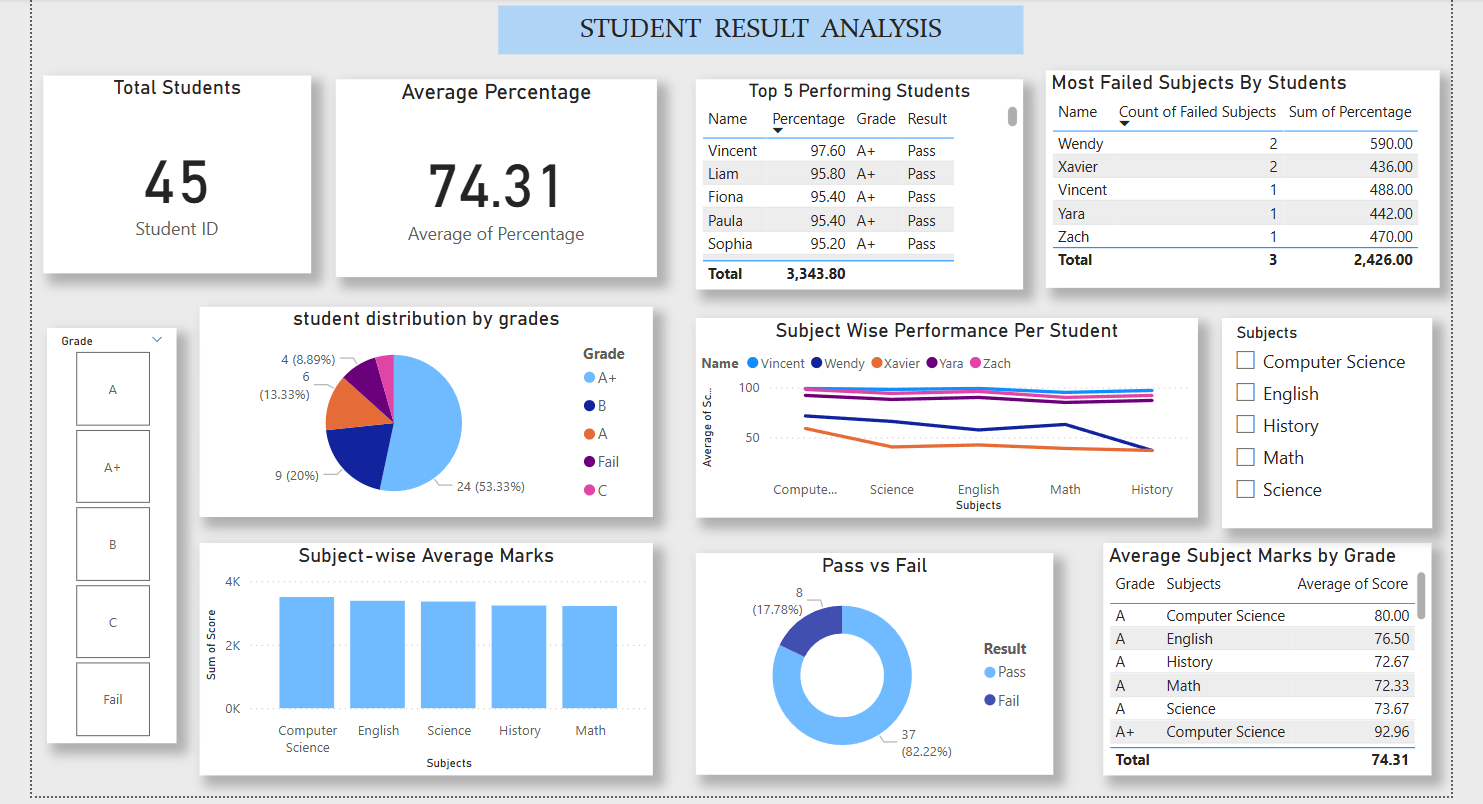

The page's visual inventory and layout, read from the dashboard file:
{"tool":"powerbi","page":{"name":"Page 1","canvas":[1280,720],"ordinal":0},"visuals":[{"type":"pieChart","title":"student distribution by grades","fields":{"Category":["Sheet1.Grade"],"Y":["Sheet1.Student ID"]},"box":[150.9,278.6,408.9,189.4],"z":0},{"type":"clusteredColumnChart","title":"Subject-wise Average Marks","fields":{"Category":["Sheet1 (2).Subjects"],"Y":["Sheet1 (2).Score"]},"box":[150.9,491.3,408.9,209.9],"z":1000},{"type":"donutChart","title":"Pass vs Fail","fields":{"Y":["Sheet1.Student ID"],"Category":["Sheet1.Result"]},"box":[598.3,500.9,322.5,200.3],"z":2000},{"type":"tableEx","title":"Average Subject Marks by Grade","fields":{"Values":["Sheet1 (2).Grade","Sheet1 (2).Subjects","Sheet1 (2).Score"]},"box":[966,491.3,296.4,209.9],"z":3000},{"type":"lineChart","title":"Subject Wise Performance Per Student","fields":{"Category":["Sheet1 (2).Subjects"],"Y":["Sheet1 (2).Score"],"Series":["Sheet1 (2).Name"]},"box":[598.3,288.2,452.8,179.8],"z":4000},{"type":"tableEx","title":"Top 5 Performing Students","fields":{"Values":["Sheet1.Name","Sheet1.Percentage","Sheet1.Grade","Sheet1.Result"]},"box":[598.3,72.7,295,189.4],"z":5000},{"type":"tableEx","title":"Most Failed Subjects By Students","fields":{"Values":["Sheet1 (2).Name","Sheet1 (2).Failed Subjects","Sheet1 (2).Percentage"]},"box":[913.9,65.9,355.4,196.2],"z":6000},{"type":"card","title":"Total Students","fields":{"Values":["Sheet1.Student ID"]},"box":[9.6,70,241.5,178.4],"z":7000},{"type":"card","title":"Average Percentage","fields":{"Values":["Sheet1 (2).Percentage"]},"box":[274.4,72.7,289.5,178.4],"z":8000},{"type":"slicer","fields":{"Values":["Sheet1 (2).Grade"]},"box":[13.7,297.8,116.6,374.6],"z":9000},{"type":"slicer","fields":{"Values":["Sheet1 (2).Subjects"]},"box":[1073.1,288.2,189.4,189.4],"z":10000},{"type":"textbox","box":[419.9,6.9,473.4,43.9],"z":11000}]}

Visuals, with their boxes in screenshot pixels (x1, y1, x2, y2):
"student distribution by grades" pieChart: (201,310,651,519)
"Subject-wise Average Marks" clusteredColumnChart: (201,544,651,775)
"Pass vs Fail" donutChart: (693,555,1048,775)
"Average Subject Marks by Grade" tableEx: (1098,544,1424,775)
"Subject Wise Performance Per Student" lineChart: (693,321,1191,519)
"Top 5 Performing Students" tableEx: (693,84,1018,292)
"Most Failed Subjects By Students" tableEx: (1040,76,1431,292)
"Total Students" card: (45,81,311,277)
"Average Percentage" card: (337,84,655,280)
slicer - Sheet1 (2).Grade: (50,332,178,744)
slicer - Sheet1 (2).Subjects: (1215,321,1424,529)
textbox: (497,11,1018,60)
